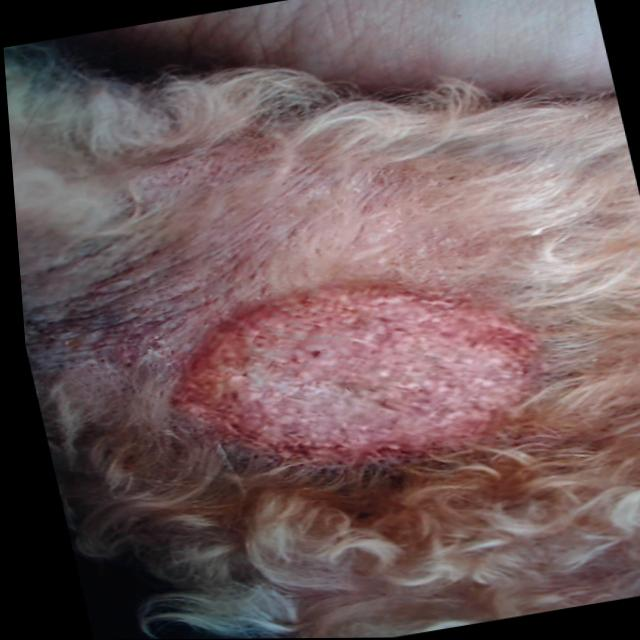ringworm: (125, 244, 570, 519)
